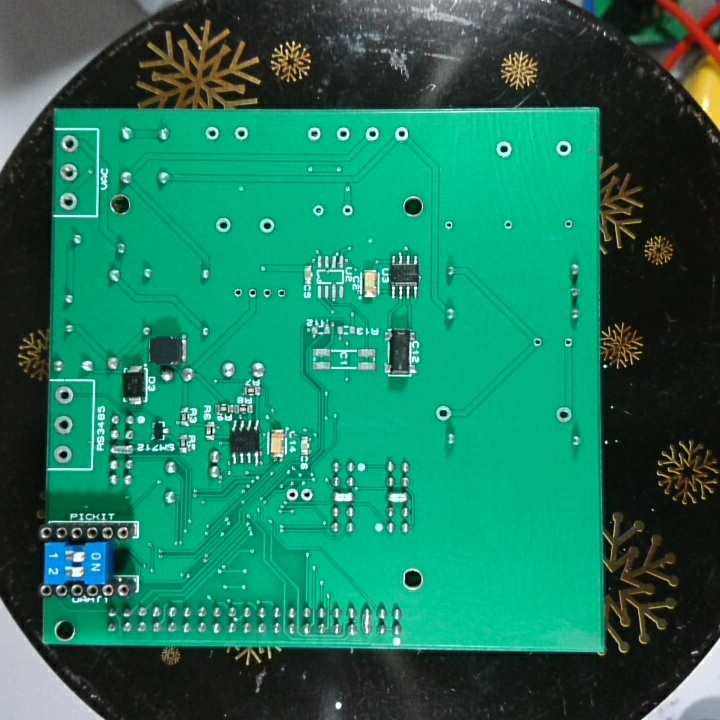F: (57, 132, 84, 159), (53, 383, 77, 409), (56, 160, 79, 185), (553, 403, 578, 426), (53, 411, 76, 436), (51, 442, 76, 465), (58, 189, 81, 211), (553, 138, 576, 160), (213, 214, 234, 236), (361, 125, 383, 146), (493, 140, 515, 160), (201, 123, 224, 142), (233, 123, 253, 144), (334, 126, 356, 144), (433, 402, 455, 420), (257, 215, 275, 235), (338, 203, 359, 220), (559, 335, 579, 352), (393, 125, 410, 144), (303, 126, 323, 142), (285, 486, 301, 506), (499, 217, 516, 235), (299, 486, 315, 505), (309, 202, 325, 220), (561, 217, 578, 233), (274, 283, 287, 303), (529, 335, 546, 350), (261, 284, 273, 304), (441, 218, 456, 233), (247, 284, 259, 300), (232, 285, 244, 300)
P: (107, 443, 137, 459), (359, 604, 373, 638), (384, 489, 410, 504), (331, 489, 355, 504)
